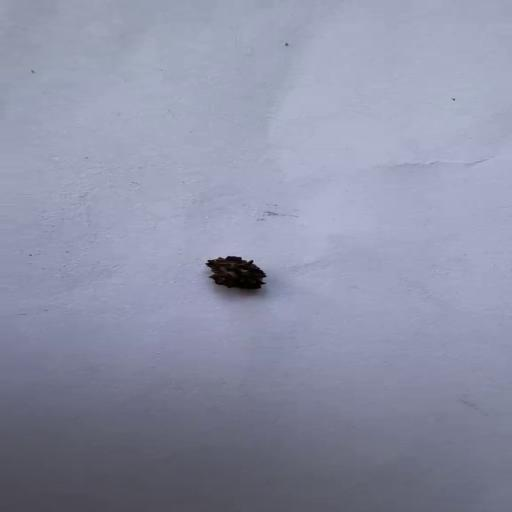papaya_seed: (204, 253, 268, 293)
